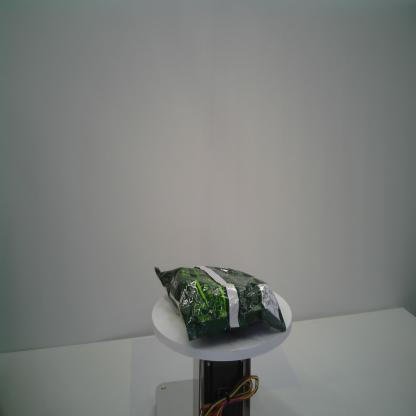Instant Noodles: (152, 262, 286, 345)
